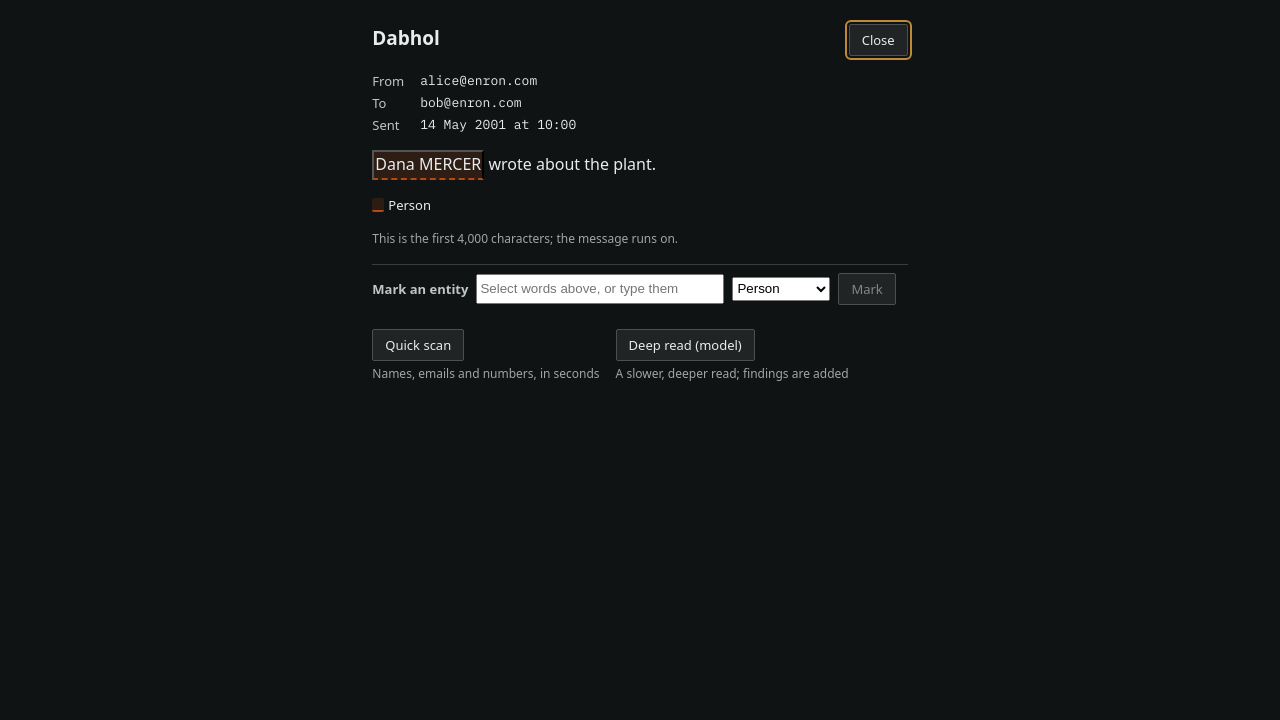
Test: DocumentReader: marking an entity › marks typed words as the chosen type, sending where they are in the text, and draws the result
Type "the plant" into the field named "Words to mark".
click(600, 289); type("the plant")  # box [476,274,724,304]
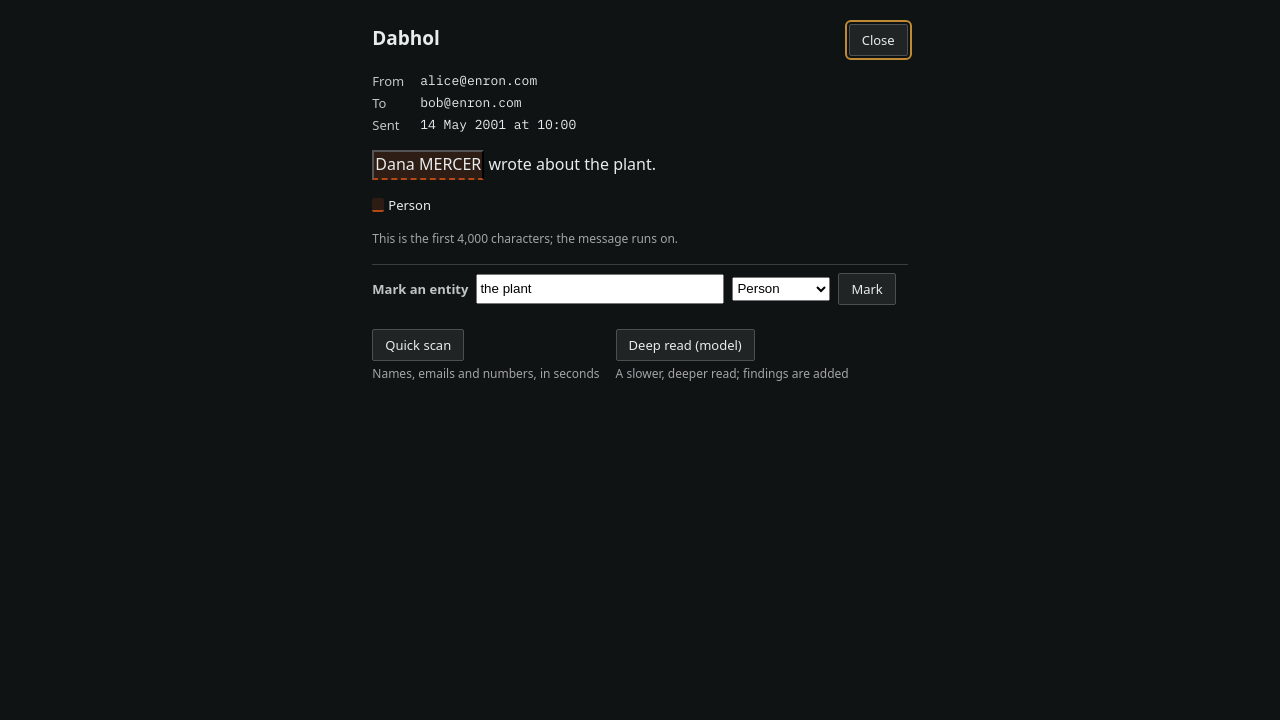
Select "Location" in the dropdown named "Mark as" at (781, 289), box [732,277,830,301]
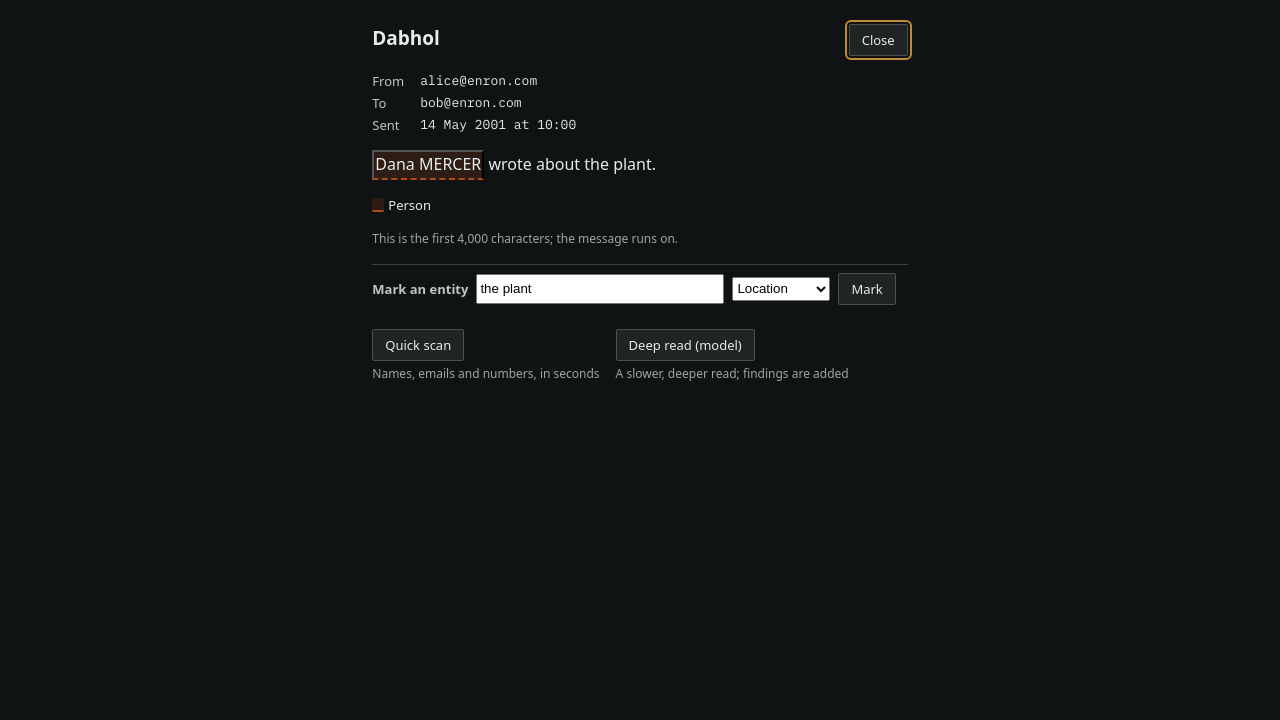
Click the button "Mark".
click(867, 289)  # box [838,273,896,305]
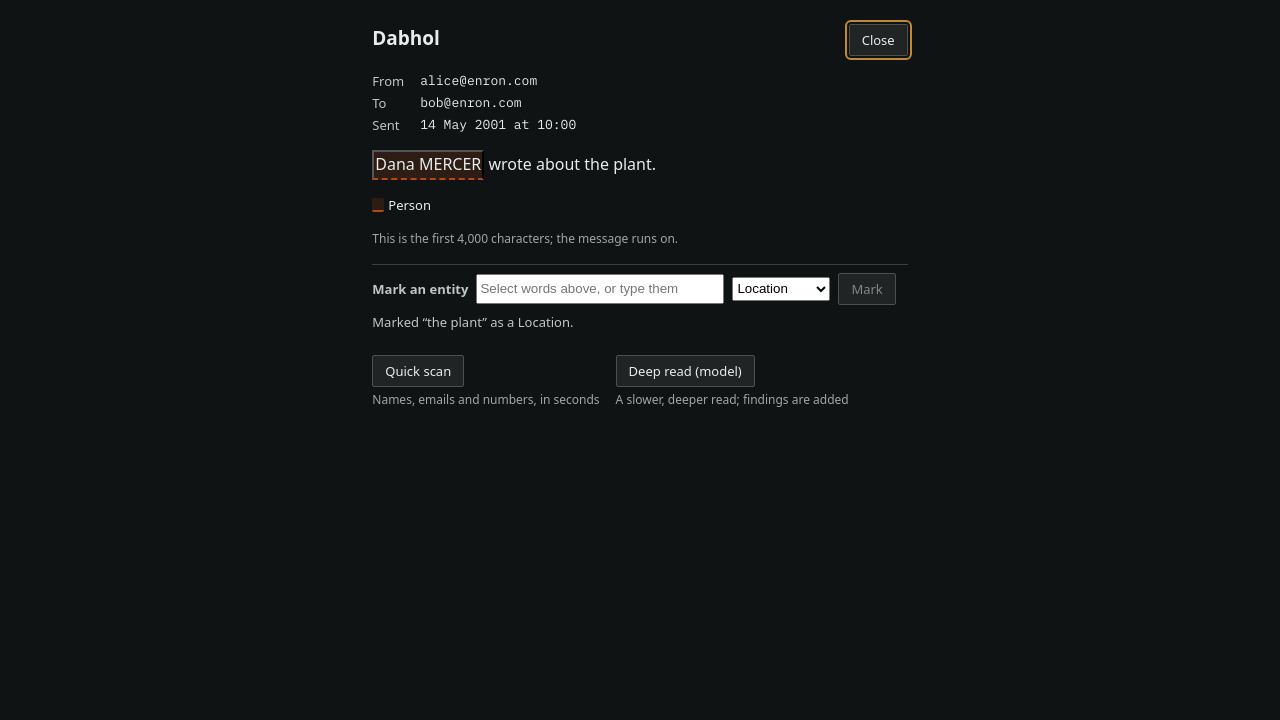
Result: the text "Marked “the plant” as a Location." is shown at [372,313,573,331]
